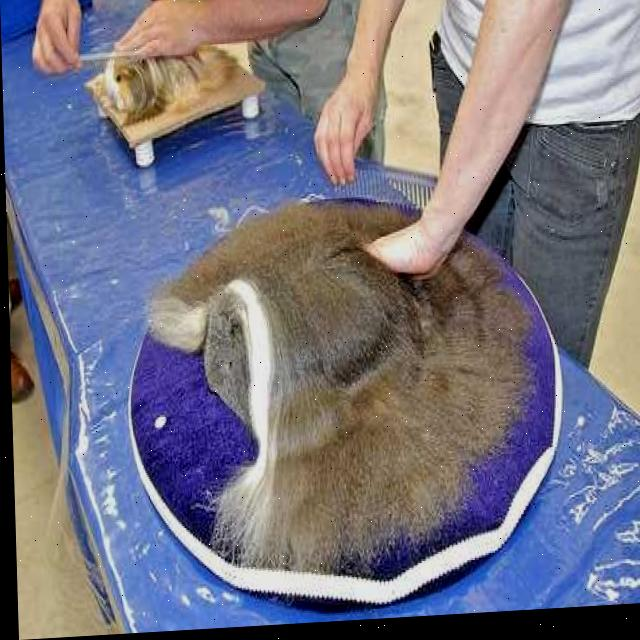guinea pig: (99, 52, 233, 121)
